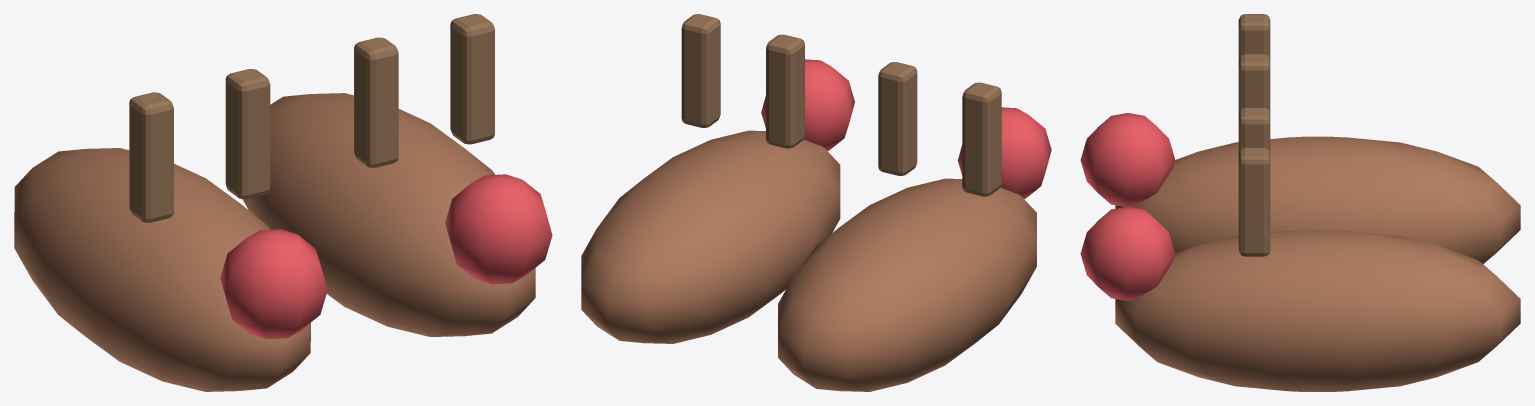
Rendered from ReindeerSlippers.fbx.
3 views of the same model, side by side, from view 1: azimuth 30°, elevation 25°; view 2: azimuth 150°, elevation 25°; view 3: azimuth 270°, elevation 25° (orthographic). The views are drawn at different scales.
Visible parts, largest first — view 1: ReindeerSlippers; view 2: ReindeerSlippers; view 3: ReindeerSlippers.
Boxes of the visible parts, box(x1,y1,x2,y2) form: ReindeerSlippers: box(14, 14, 552, 391); ReindeerSlippers: box(581, 14, 1051, 391); ReindeerSlippers: box(1080, 14, 1520, 391).
Size of the model in its own units: 25.52 by 17.5 by 27.8.
